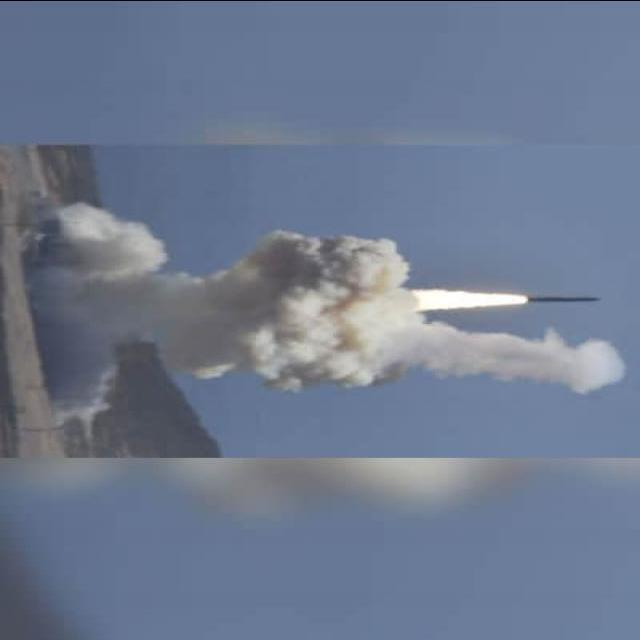Missile: (522, 294, 602, 303)
